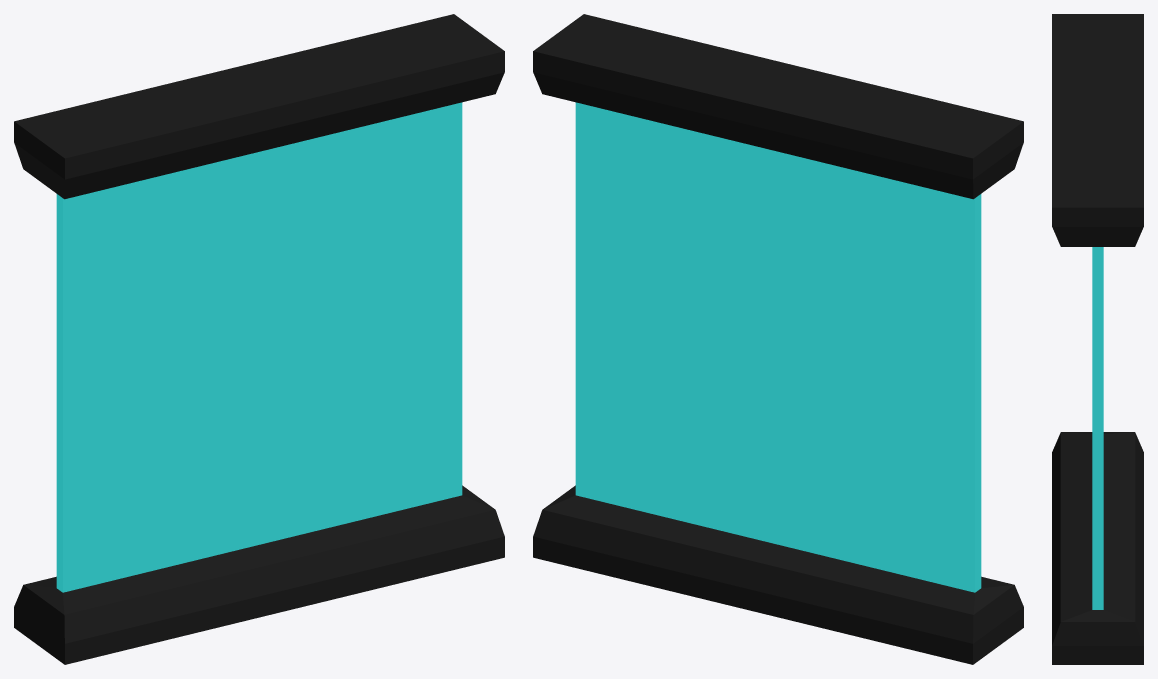
The model's file is Field.fbx.
3 views of the same model, side by side, from view 1: azimuth 30°, elevation 25°; view 2: azimuth 150°, elevation 25°; view 3: azimuth 270°, elevation 25° (orthographic). The views are drawn at different scales.
Visible parts, largest first — view 1: Field; view 2: Field; view 3: Field.
Boxes of the visible parts, <box> form: Field: <box>14,14,504,664</box>; Field: <box>533,14,1023,664</box>; Field: <box>1052,14,1143,664</box>.
Bounding box in the file's own units: 1000 × 1100 × 200.
